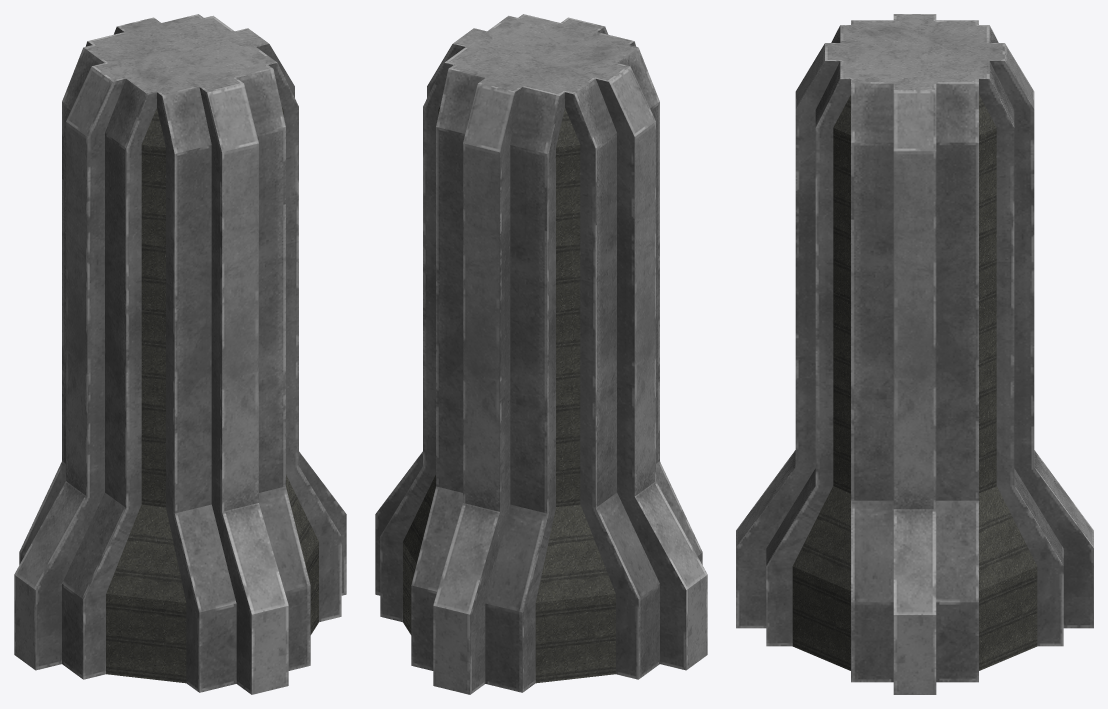
The model's file is scifi_perimeter_wall_pillar.glb.
The picture shows the model from 3 angles, left to right: view 1: azimuth 30°, elevation 25°; view 2: azimuth 150°, elevation 25°; view 3: azimuth 270°, elevation 25°; orthographic projection.
Parts seen in each view (by area): view 1: Cube.002; view 2: Cube.002; view 3: Cube.002.
Part boxes in pixels (bbox=[...]): Cube.002: bbox=[14, 14, 346, 694]; Cube.002: bbox=[375, 14, 707, 694]; Cube.002: bbox=[736, 14, 1093, 694].
Bounding box in the file's own units: 4 × 7 × 4.
1 material, 1 textured.
